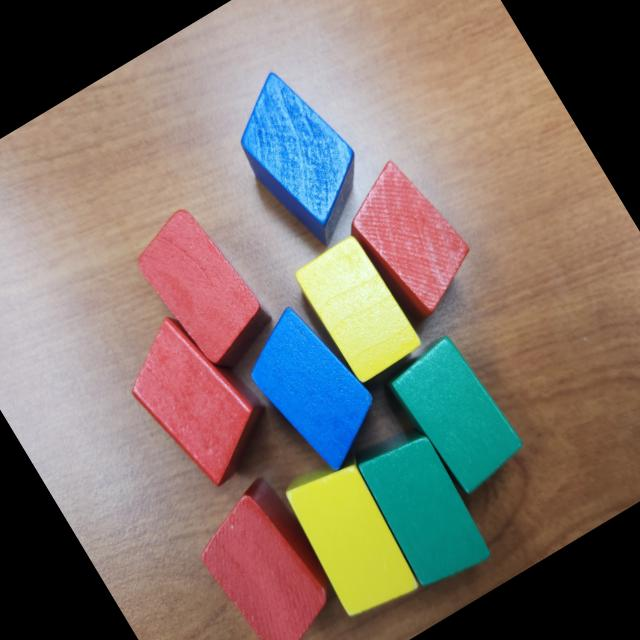blue: (212, 55, 390, 260), (230, 292, 398, 484)
green: (344, 416, 500, 598), (380, 328, 534, 503)
red: (108, 298, 287, 500), (179, 469, 360, 640), (328, 146, 490, 330), (124, 197, 280, 378)
yellow: (274, 446, 430, 626), (290, 232, 427, 386)
